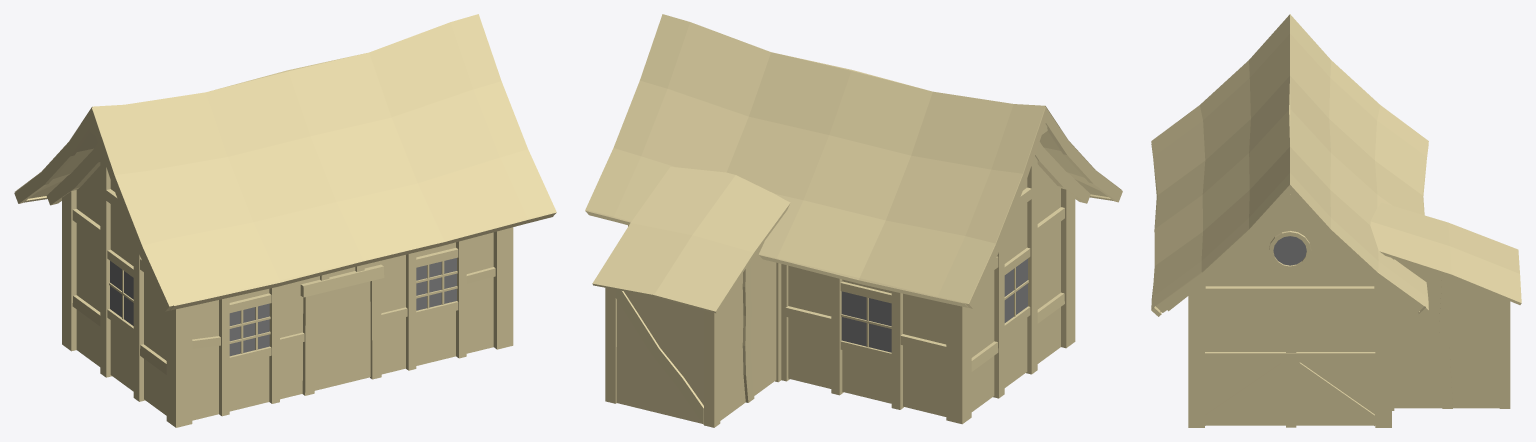
File: HouseWithBack.fbx
3 renders of one model, left to right at view 1: azimuth 30°, elevation 25°; view 2: azimuth 150°, elevation 25°; view 3: azimuth 270°, elevation 25°, orthographic. The views are drawn at different scales.
Parts seen in each view (by area): view 1: building.02; view 2: building.02; view 3: building.02.
Boxes of the visible parts, left/top/right/bottom form: building.02: left=14, top=14, right=556, bottom=427; building.02: left=585, top=14, right=1122, bottom=427; building.02: left=1151, top=14, right=1521, bottom=427.
Size of the model in its own units: 803 by 571 by 746.
